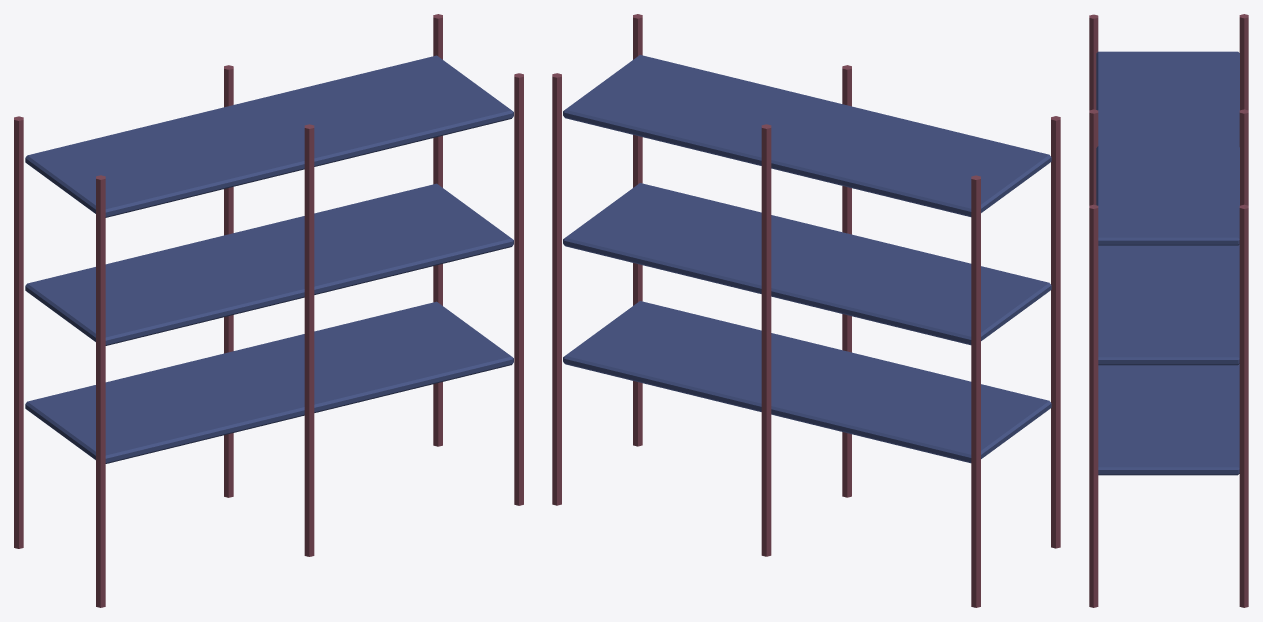
Rendered from bookcase.fbx.
3 views of the same model, side by side, from view 1: azimuth 30°, elevation 25°; view 2: azimuth 150°, elevation 25°; view 3: azimuth 270°, elevation 25° (orthographic). The views are drawn at different scales.
Visible parts, largest first — view 1: bookhylla; view 2: bookhylla; view 3: bookhylla.
Part boxes in pixels (x1=…): bookhylla: x1=14, y1=14, x2=523, y2=607; bookhylla: x1=552, y1=14, x2=1060, y2=607; bookhylla: x1=1089, y1=14, x2=1248, y2=607.
Bounding box in the file's own units: 3.07 × 2.92 × 1.06.
